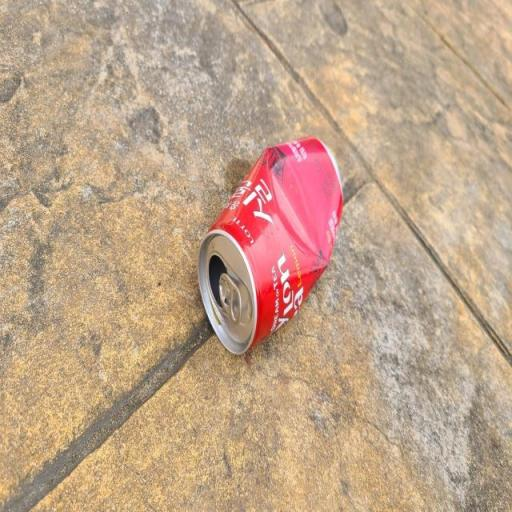metal: (192, 130, 354, 362)
